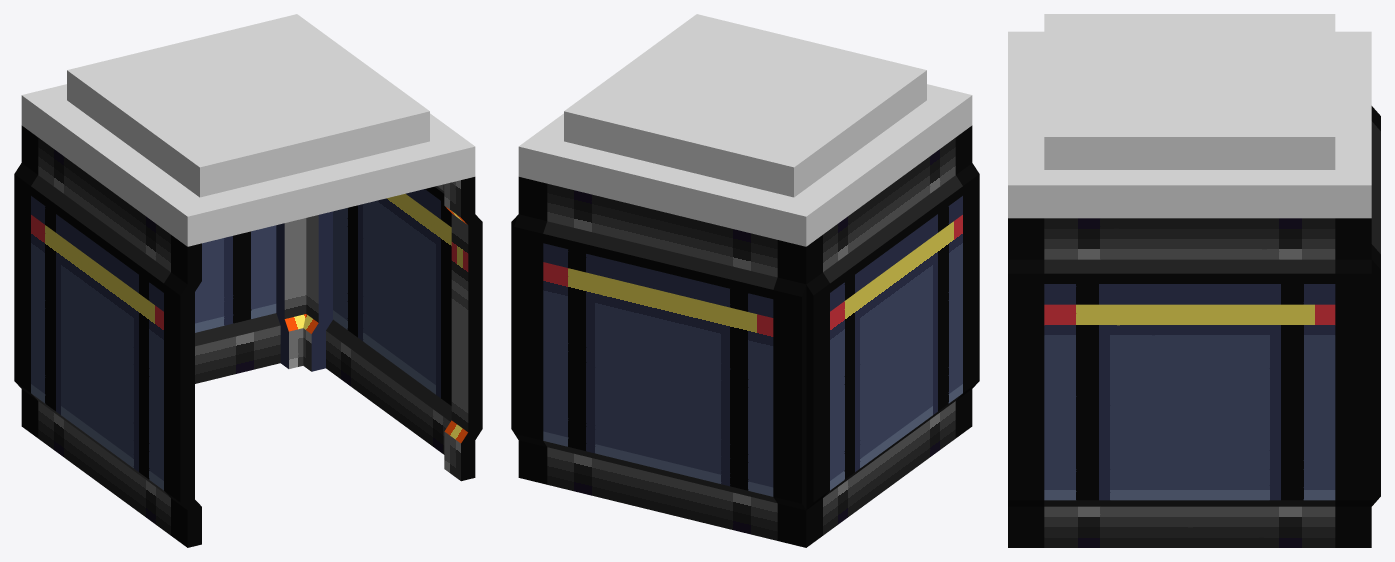
The picture shows the model from 3 angles, left to right: view 1: azimuth 30°, elevation 25°; view 2: azimuth 150°, elevation 25°; view 3: azimuth 270°, elevation 25°; orthographic projection. The views are drawn at different scales.
Visible parts, largest first — view 1: Roof, W, E, N; view 2: N, Roof, W, E; view 3: E, Roof, N.
Boxes of the visible parts, x1,y1,x2,y2 form: Roof: (21,14,475,246); W: (14,127,201,547); E: (303,177,482,481); N: (21,126,306,431); N: (514,177,814,547); Roof: (518,14,972,246); W: (792,125,979,547); E: (511,177,532,478); E: (1008,218,1371,547); Roof: (1008,14,1371,218); N: (1353,106,1380,547).
Size of the model in its own units: 2.1 by 2.4 by 2.05.
2 materials, 1 textured.
